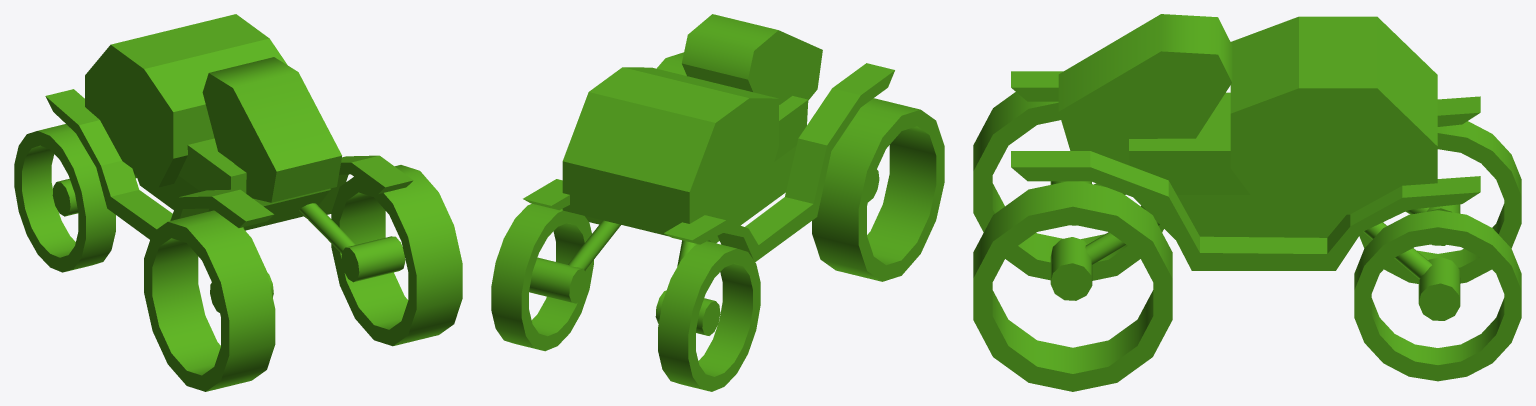
The model's file is car.obj.
The picture shows the model from 3 angles, left to right: view 1: azimuth 30°, elevation 25°; view 2: azimuth 150°, elevation 25°; view 3: azimuth 270°, elevation 25°; orthographic projection. The views are drawn at different scales.
Visible parts, largest first — view 1: Line008; view 2: Line008; view 3: Line008.
Part boxes in pixels (x1,y1,x2,y2): Line008: [14, 14, 462, 391]; Line008: [491, 14, 944, 391]; Line008: [973, 14, 1521, 391].
Bounding box in the file's own units: 20.52 × 21.02 × 35.66.
